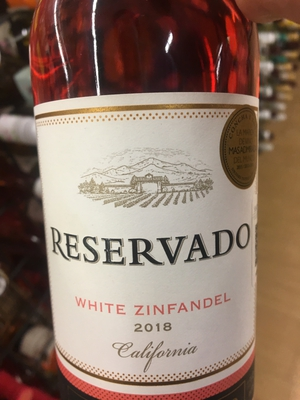reservado white zinfandel: (31, 1, 262, 400)
